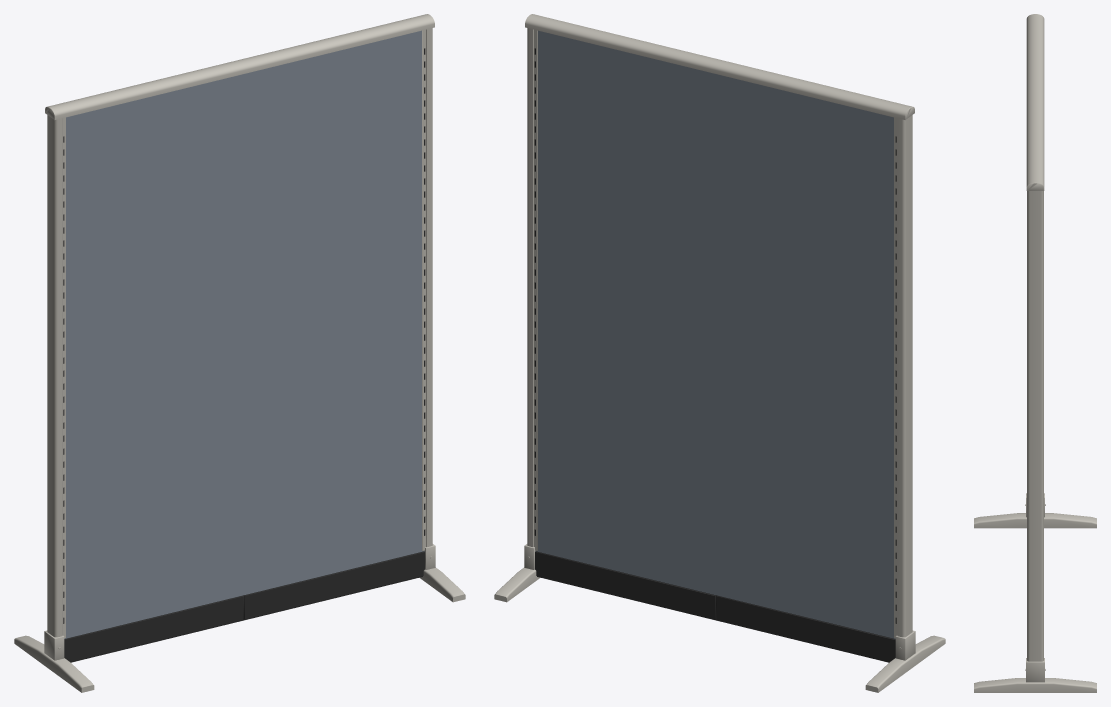
The model's file is Kit_PanelFreestanding_2160.fbx.
3 renders of one model, left to right at view 1: azimuth 30°, elevation 25°; view 2: azimuth 150°, elevation 25°; view 3: azimuth 270°, elevation 25°, orthographic. The views are drawn at different scales.
Parts seen in each view (by area): view 1: Kit_PanelFreestanding_2160_LOD0; view 2: Kit_PanelFreestanding_2160_LOD0; view 3: Kit_PanelFreestanding_2160_LOD0.
Boxes of the visible parts, bbox=[...] form: Kit_PanelFreestanding_2160_LOD0: bbox=[14, 14, 465, 692]; Kit_PanelFreestanding_2160_LOD0: bbox=[494, 14, 945, 692]; Kit_PanelFreestanding_2160_LOD0: bbox=[974, 14, 1096, 692].
Size of what is drawn, in the model's own units: 1.54 by 2.16 by 0.47.
